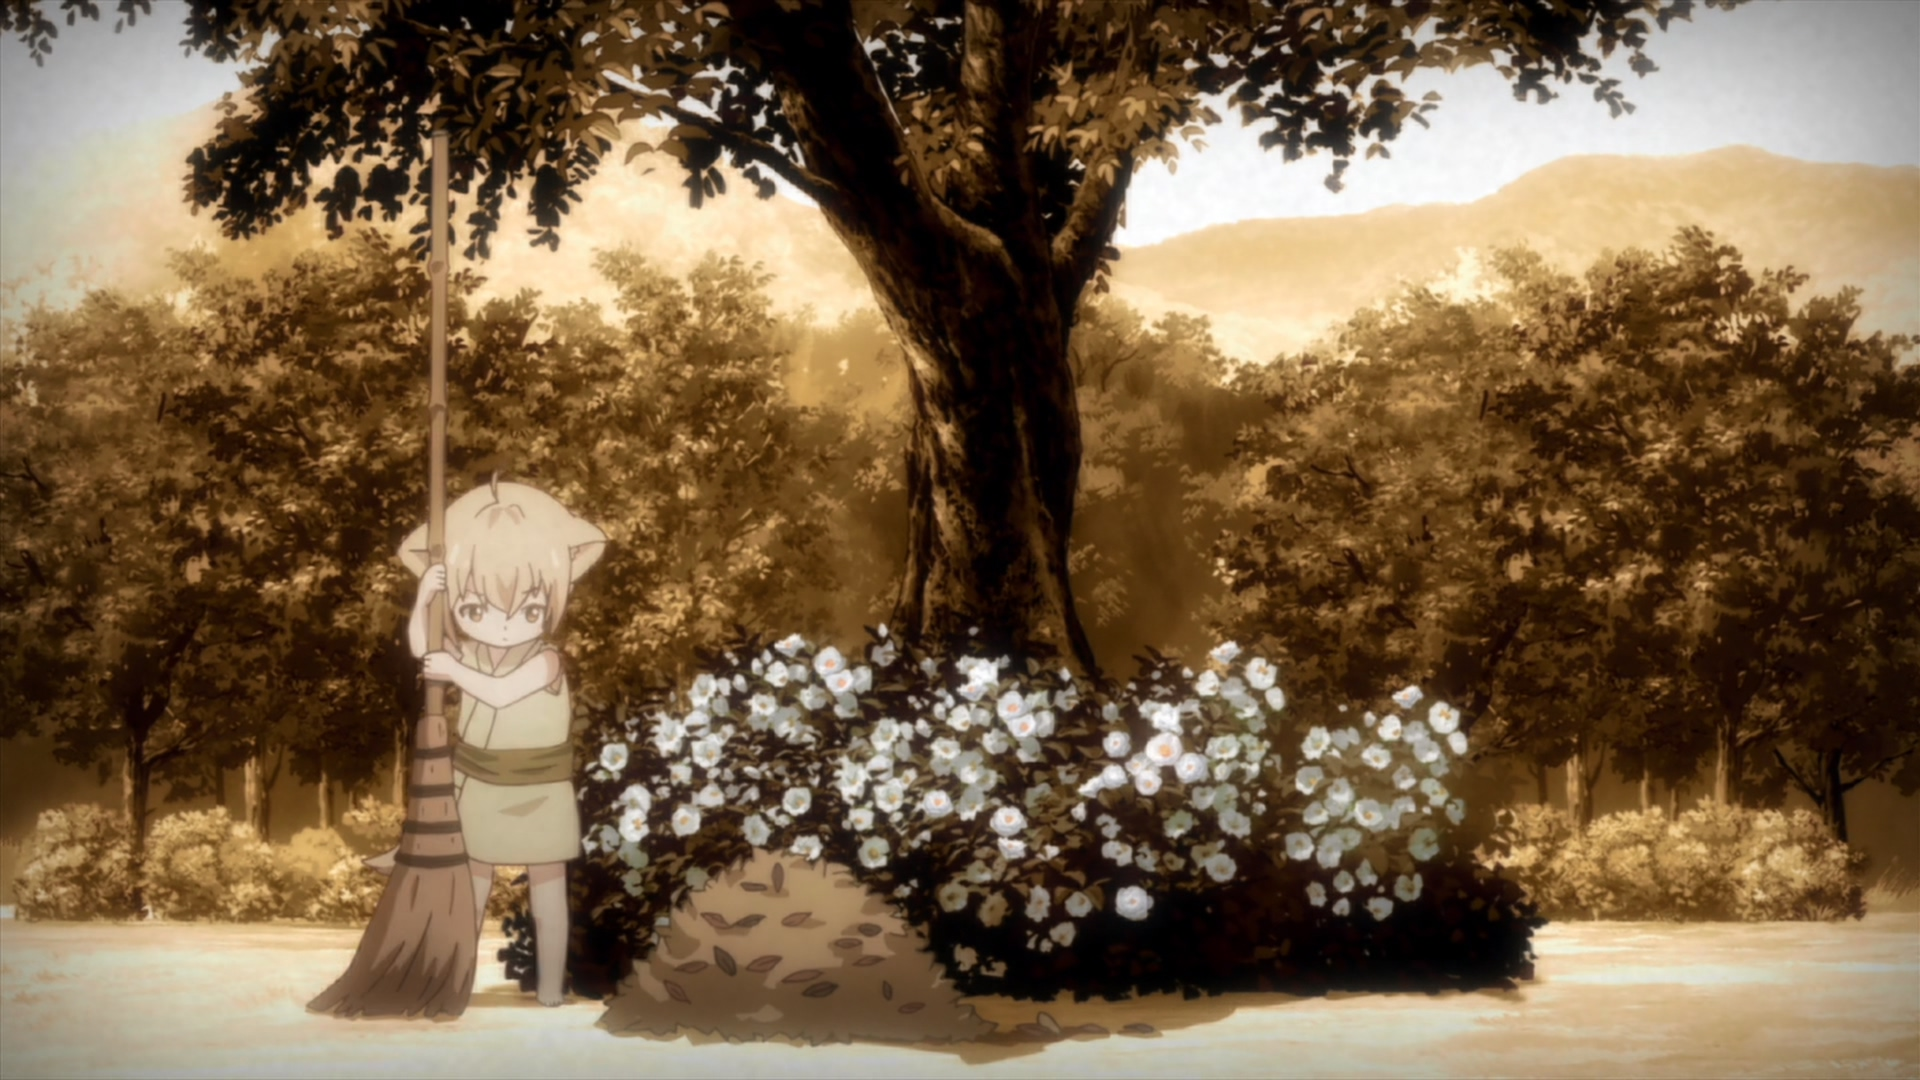柚: (397, 468, 607, 1007)
